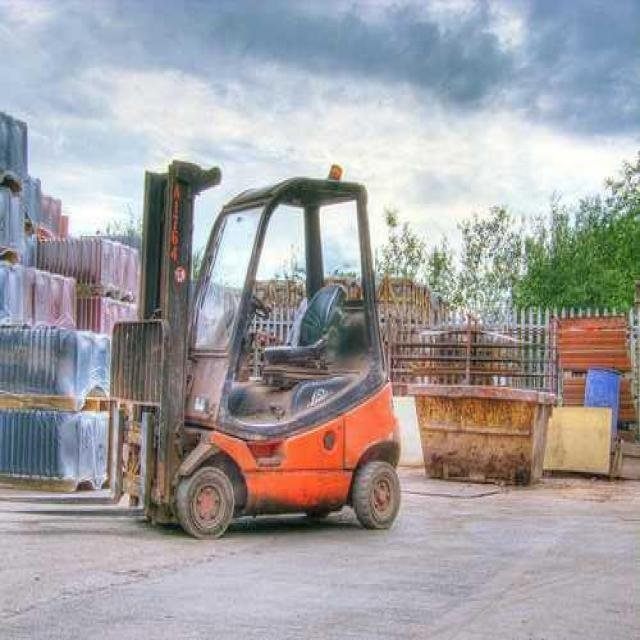Chariot elevateur: (110, 142, 405, 540)
